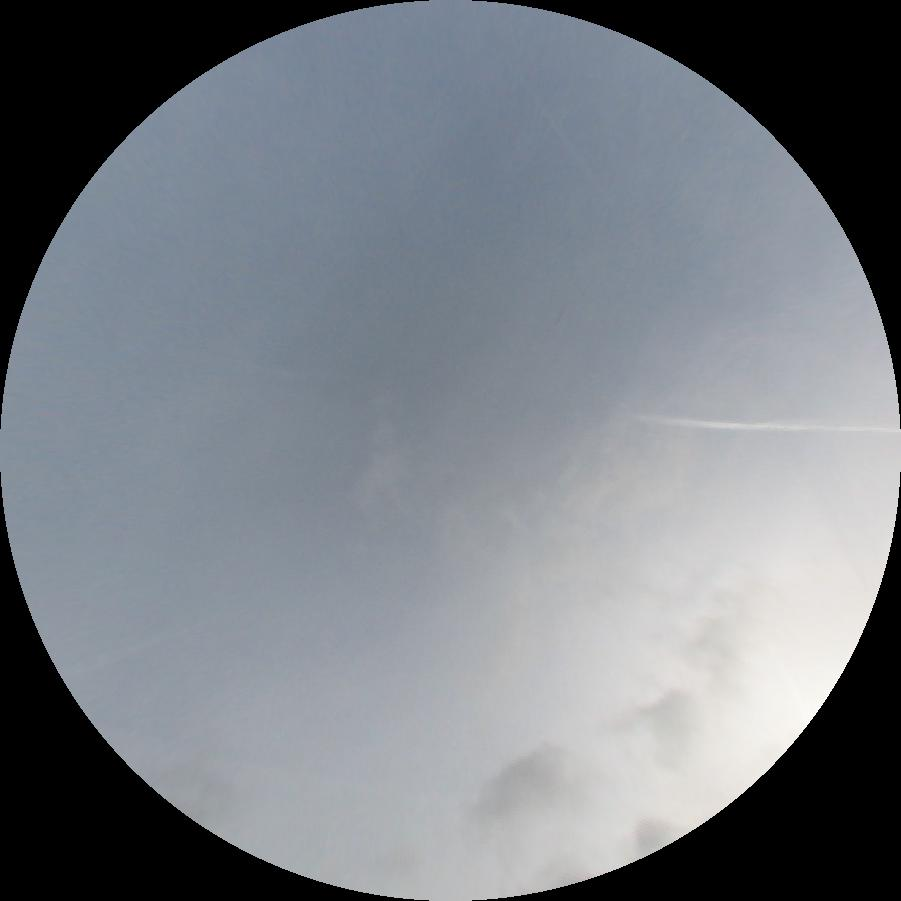contrail old: (502, 55, 593, 175), (635, 415, 900, 434)
contrail veryold: (61, 626, 185, 683)
unknow: (248, 369, 354, 384)
